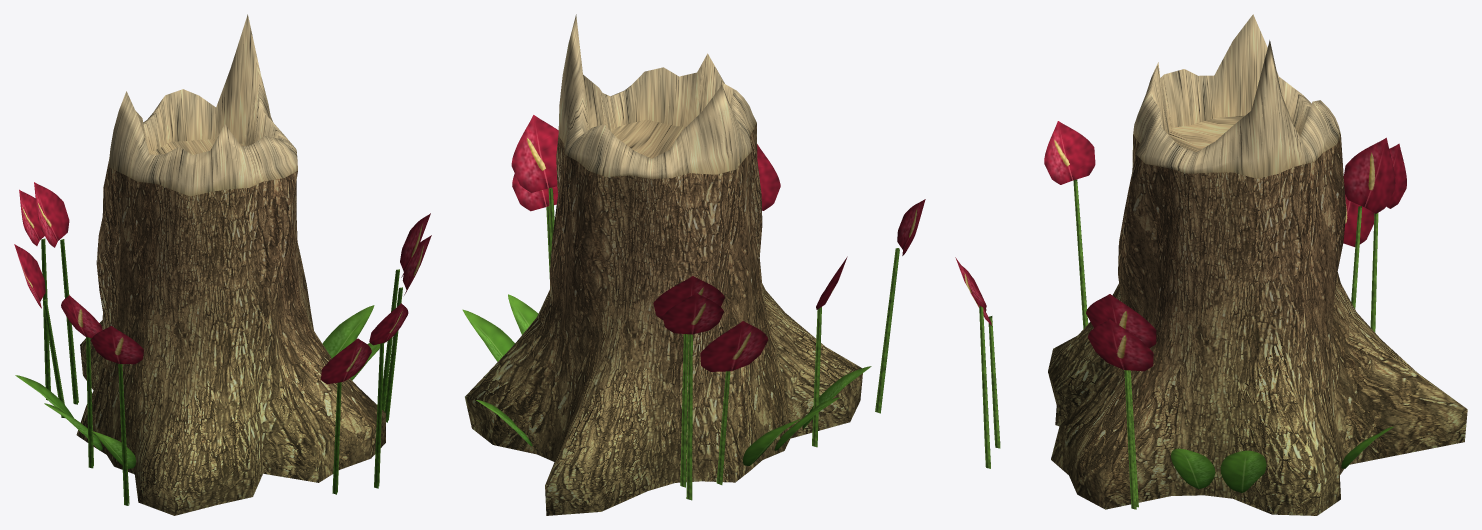
File: mm8_deco_plant43.glb
3 renders of one model, left to right at view 1: azimuth 30°, elevation 25°; view 2: azimuth 150°, elevation 25°; view 3: azimuth 270°, elevation 25°, orthographic. The views are drawn at different scales.
Visible parts, largest first — view 1: Plant; view 2: Plant; view 3: Plant.
Part boxes in pixels (x1,y1,x2,y2): Plant: (14,14,431,515); Plant: (462,14,925,515); Plant: (955,14,1467,515).
Bounding box in the file's own units: 1.04 × 1.09 × 1.17.
Materials: 3 (3 with a texture image).
